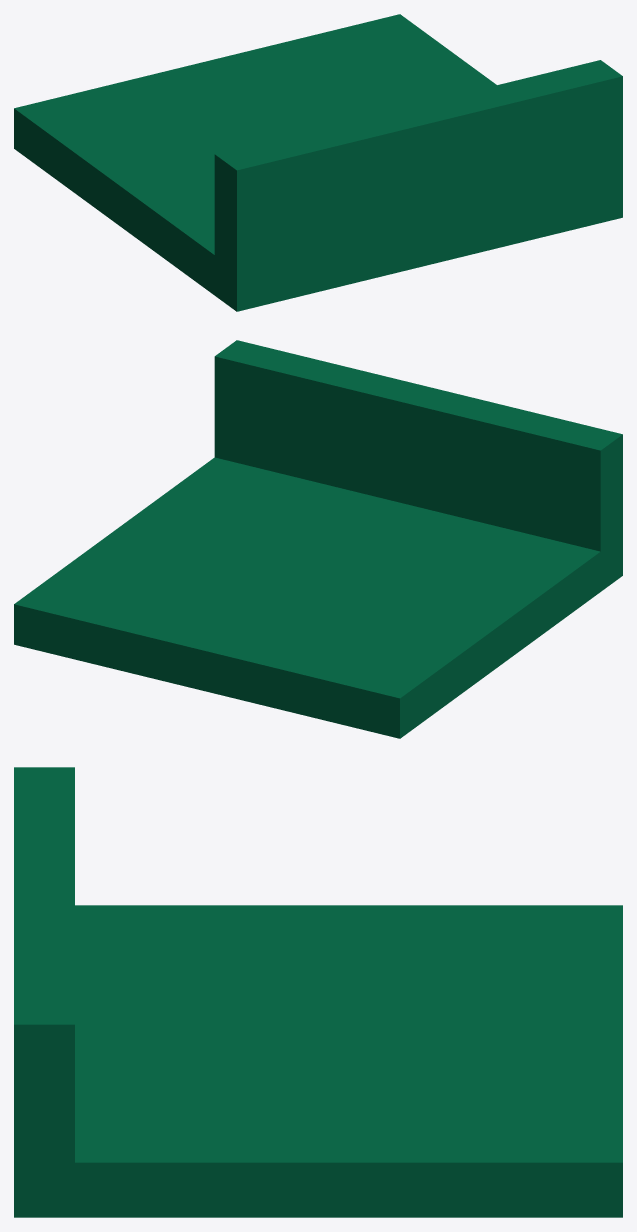
The model's file is GreenRoof_1Edge_Small.glb.
3 renders of one model, top to bottom at view 1: azimuth 30°, elevation 25°; view 2: azimuth 150°, elevation 25°; view 3: azimuth 270°, elevation 25°, orthographic. The views are drawn at different scales.
Visible parts, largest first — view 1: roof_flat_1Edges_small_green; view 2: roof_flat_1Edges_small_green; view 3: roof_flat_1Edges_small_green.
Part boxes in pixels (box(x1,y1,x2,y2)): roof_flat_1Edges_small_green: box(14, 14, 622, 311); roof_flat_1Edges_small_green: box(14, 340, 622, 738); roof_flat_1Edges_small_green: box(14, 767, 622, 1217).
Size of what is drawn, in the model's own units: 2 by 0.7 by 2.
Materials: 1 (1 with a texture image).
